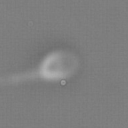normal: (1, 68, 40, 88)
